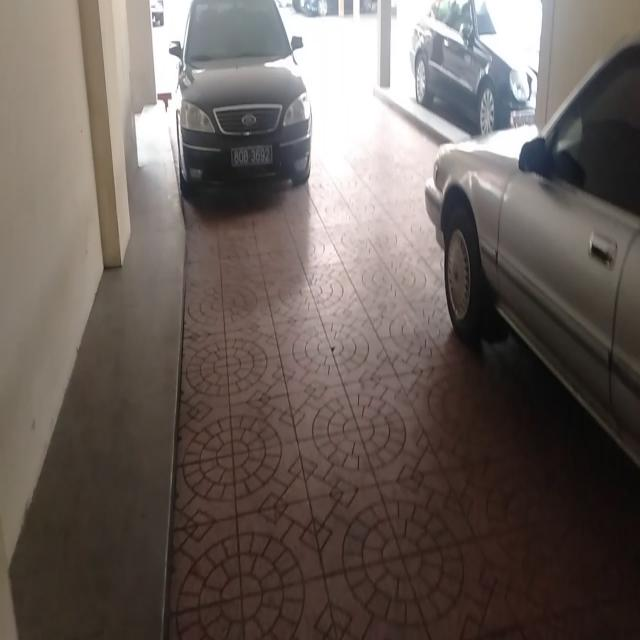bien_xanh: (231, 141, 276, 171)
